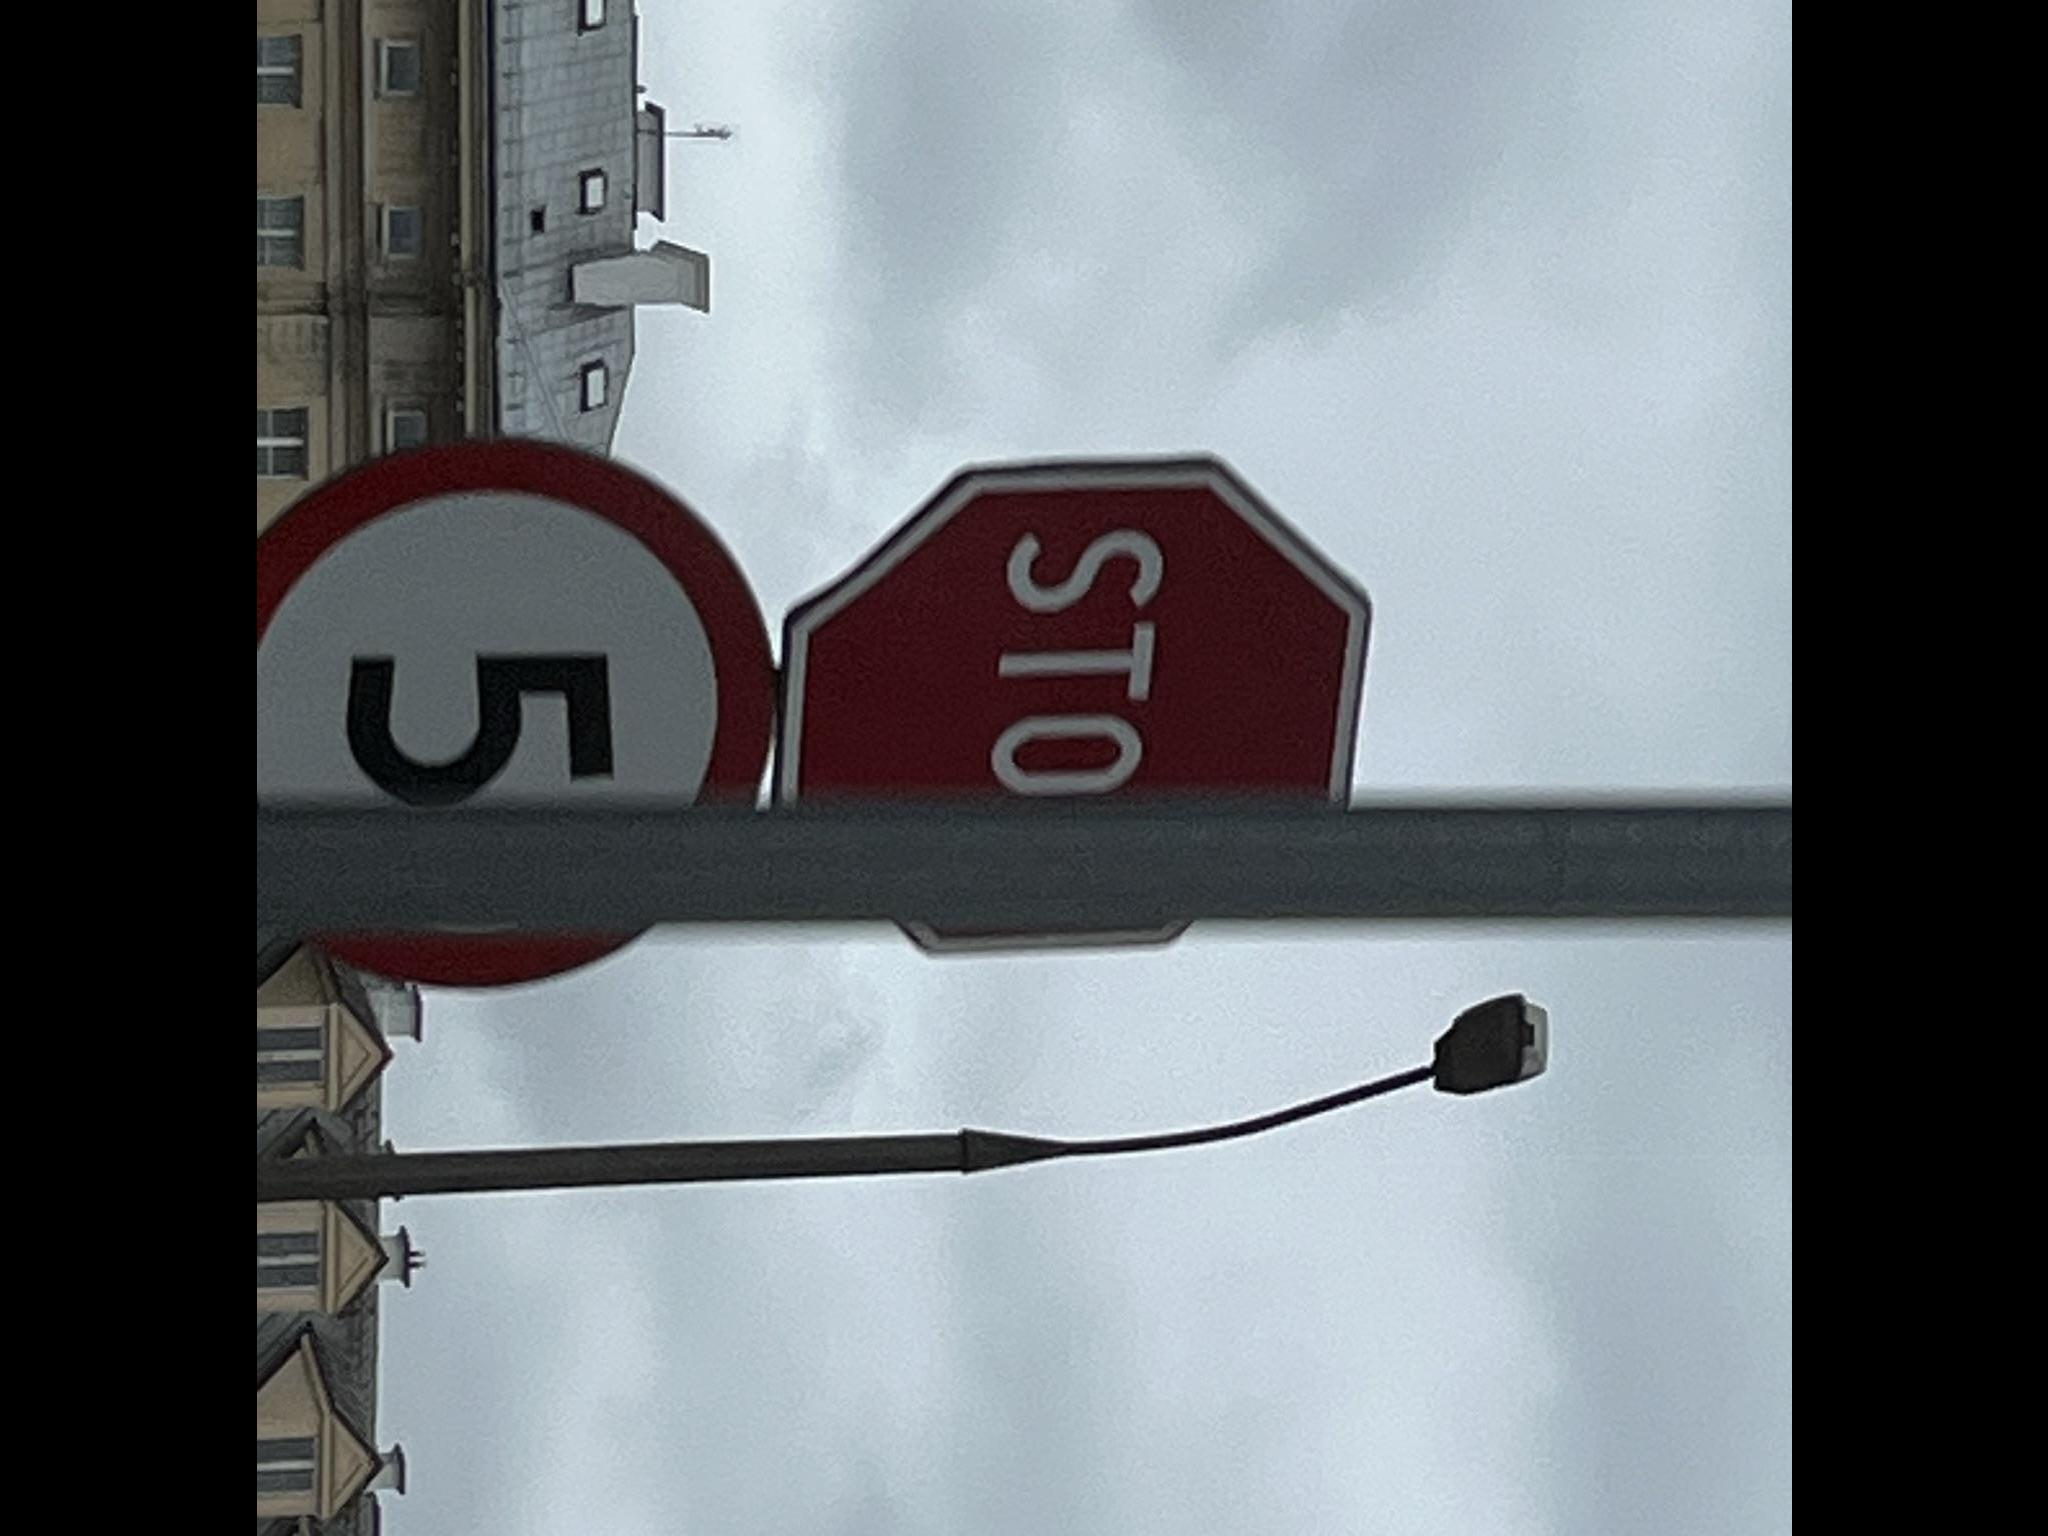prohibitory: (768, 450, 1374, 954), (256, 434, 772, 994)
